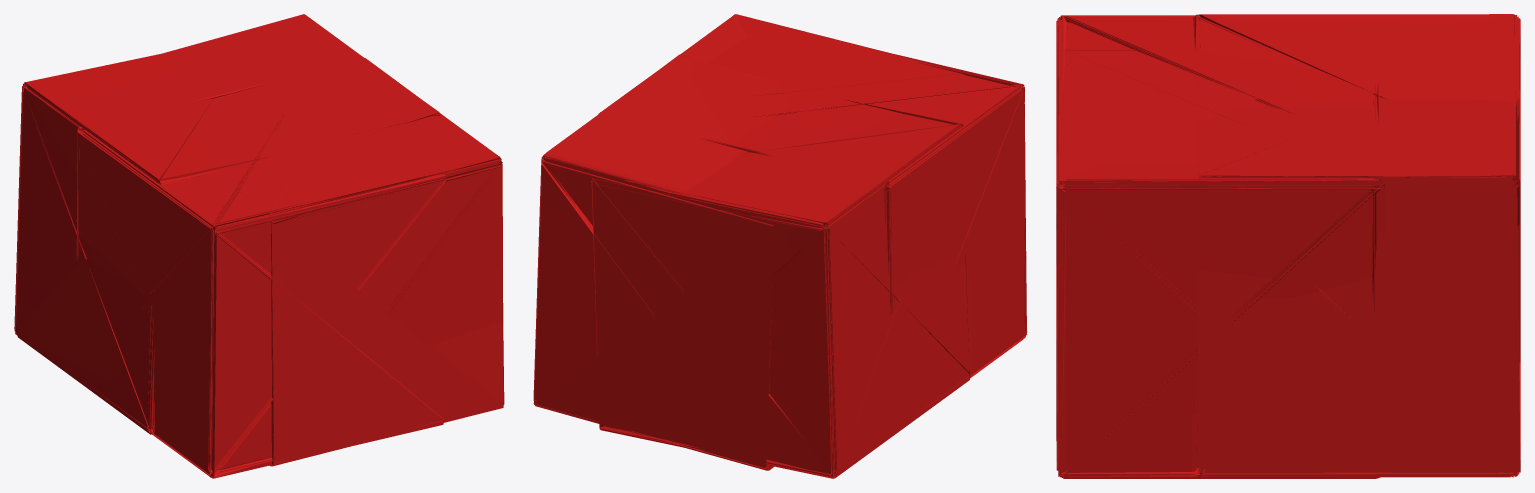
The model's file is toyota-gr-yaris.obj.
3 renders of one model, left to right at view 1: azimuth 30°, elevation 25°; view 2: azimuth 150°, elevation 25°; view 3: azimuth 270°, elevation 25°, orthographic. The views are drawn at different scales.
Visible parts, largest first — view 1: WHEEL_LF, WHEEL_RF, WHEEL_RR, WHEEL_LR; view 2: WHEEL_RR, WHEEL_LR, WHEEL_RF, WHEEL_LF; view 3: WHEEL_LR, WHEEL_LF, WHEEL_RR, WHEEL_RF.
Part boxes in pixels (bbox=[...]): WHEEL_LF: bbox=[195, 58, 504, 466]; WHEEL_RF: bbox=[76, 95, 446, 478]; WHEEL_RR: bbox=[14, 52, 272, 434]; WHEEL_LR: bbox=[165, 14, 440, 139]; WHEEL_RR: bbox=[591, 99, 972, 478]; WHEEL_LR: bbox=[533, 54, 791, 470]; WHEEL_RF: bbox=[740, 49, 1027, 377]; WHEEL_LF: bbox=[598, 14, 964, 156]; WHEEL_LR: bbox=[1192, 57, 1520, 477]; WHEEL_LF: bbox=[1056, 49, 1384, 478]; WHEEL_RR: bbox=[1193, 14, 1520, 362]; WHEEL_RF: bbox=[1056, 15, 1373, 440].
Size of the model in its own units: 3.69 by 3.07 by 4.2.
